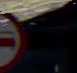No overtake: (0, 4, 26, 71)
